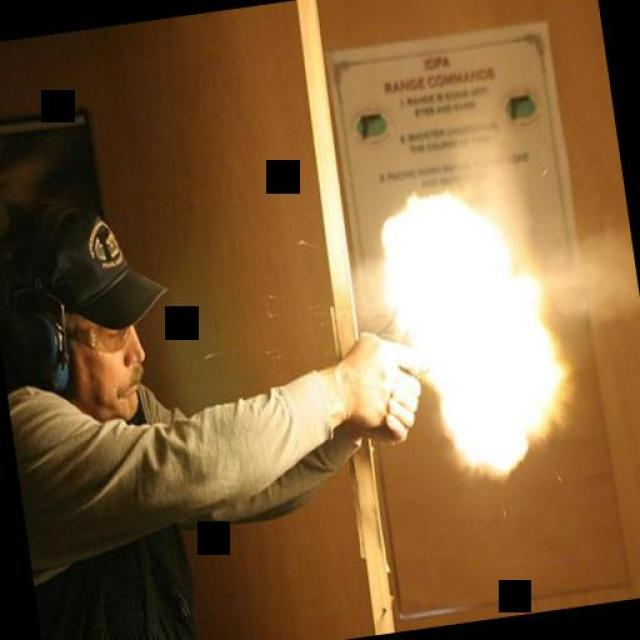gun: (353, 292, 468, 433)
